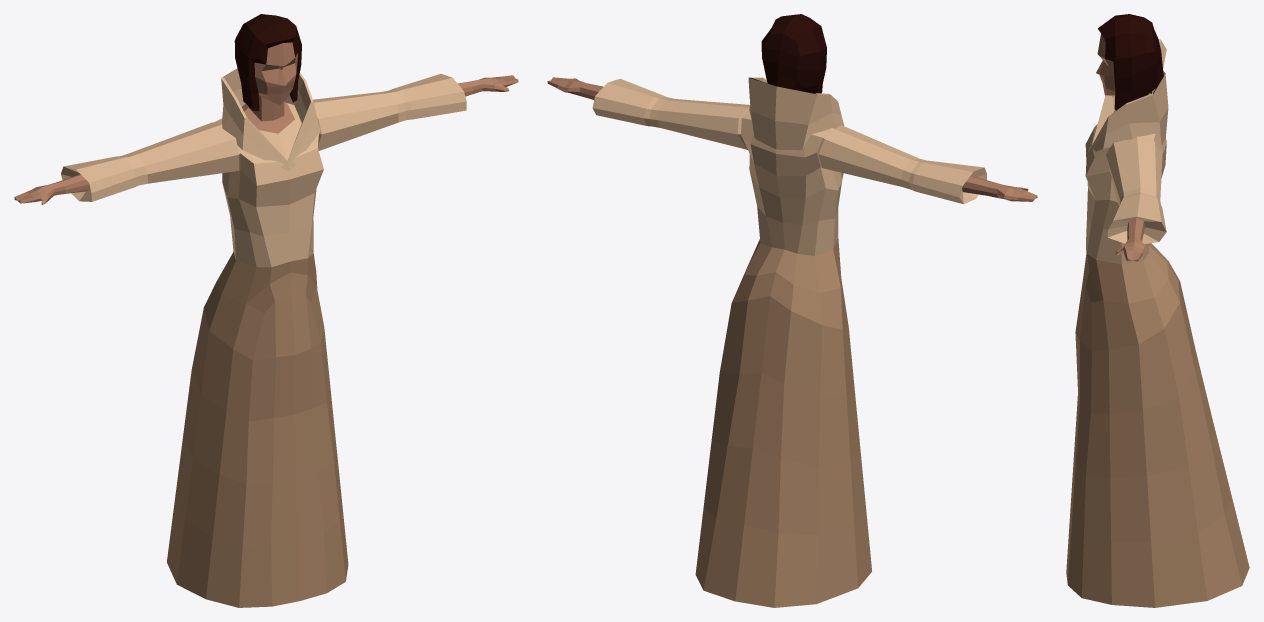
The model's file is _chap2Lara.fbx.
The picture shows the model from 3 angles, left to right: view 1: azimuth 30°, elevation 25°; view 2: azimuth 150°, elevation 25°; view 3: azimuth 270°, elevation 25°; orthographic projection. The views are drawn at different scales.
Parts seen in each view (by area): view 1: _chap2Lara; view 2: _chap2Lara; view 3: _chap2Lara.
Part boxes in pixels (x1,y1,x2,y2): _chap2Lara: (14, 14, 518, 607); _chap2Lara: (547, 14, 1037, 607); _chap2Lara: (1066, 14, 1249, 607).
Bounding box in the file's own units: 1.86 × 2.03 × 0.5984.
